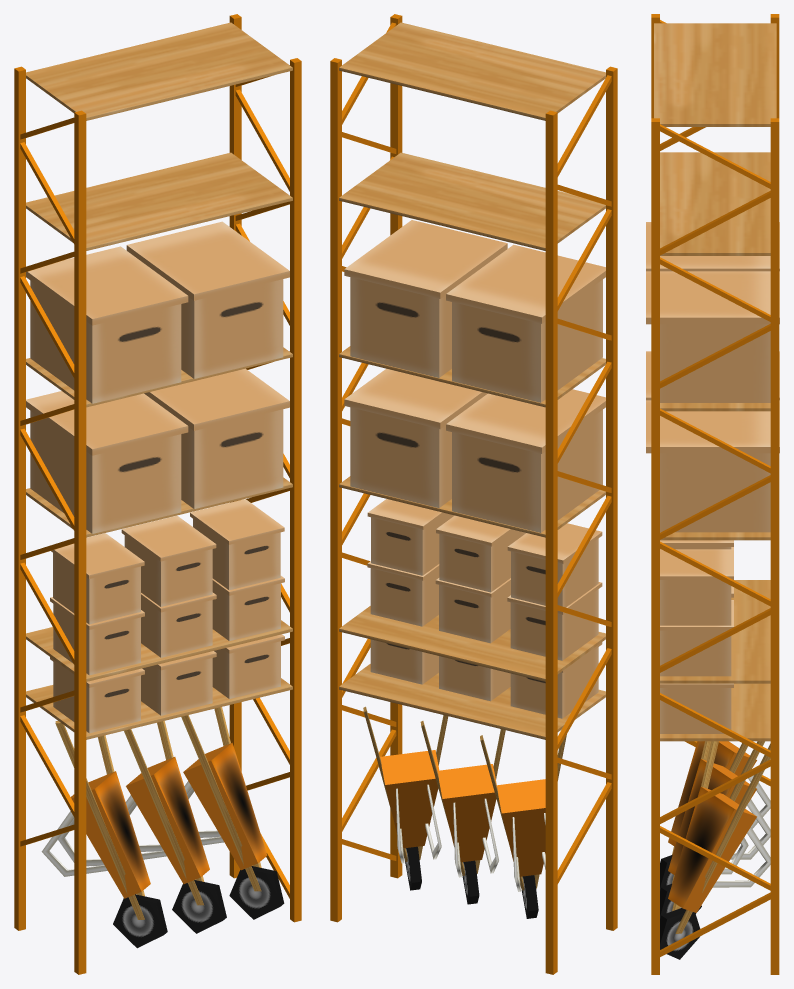
Rendered from WheelBarrow_Rack.fbx.
The picture shows the model from 3 angles, left to right: view 1: azimuth 30°, elevation 25°; view 2: azimuth 150°, elevation 25°; view 3: azimuth 270°, elevation 25°; orthographic projection.
Parts seen in each view (by area): view 1: Wheelbarrow_Rack; view 2: Wheelbarrow_Rack; view 3: Wheelbarrow_Rack.
Boxes of the visible parts, x1,y1,x2,y2 form: Wheelbarrow_Rack: [14, 14, 301, 974]; Wheelbarrow_Rack: [330, 14, 617, 974]; Wheelbarrow_Rack: [646, 14, 779, 974].
Bounding box in the file's own units: 2 × 7.37 × 1.05.
